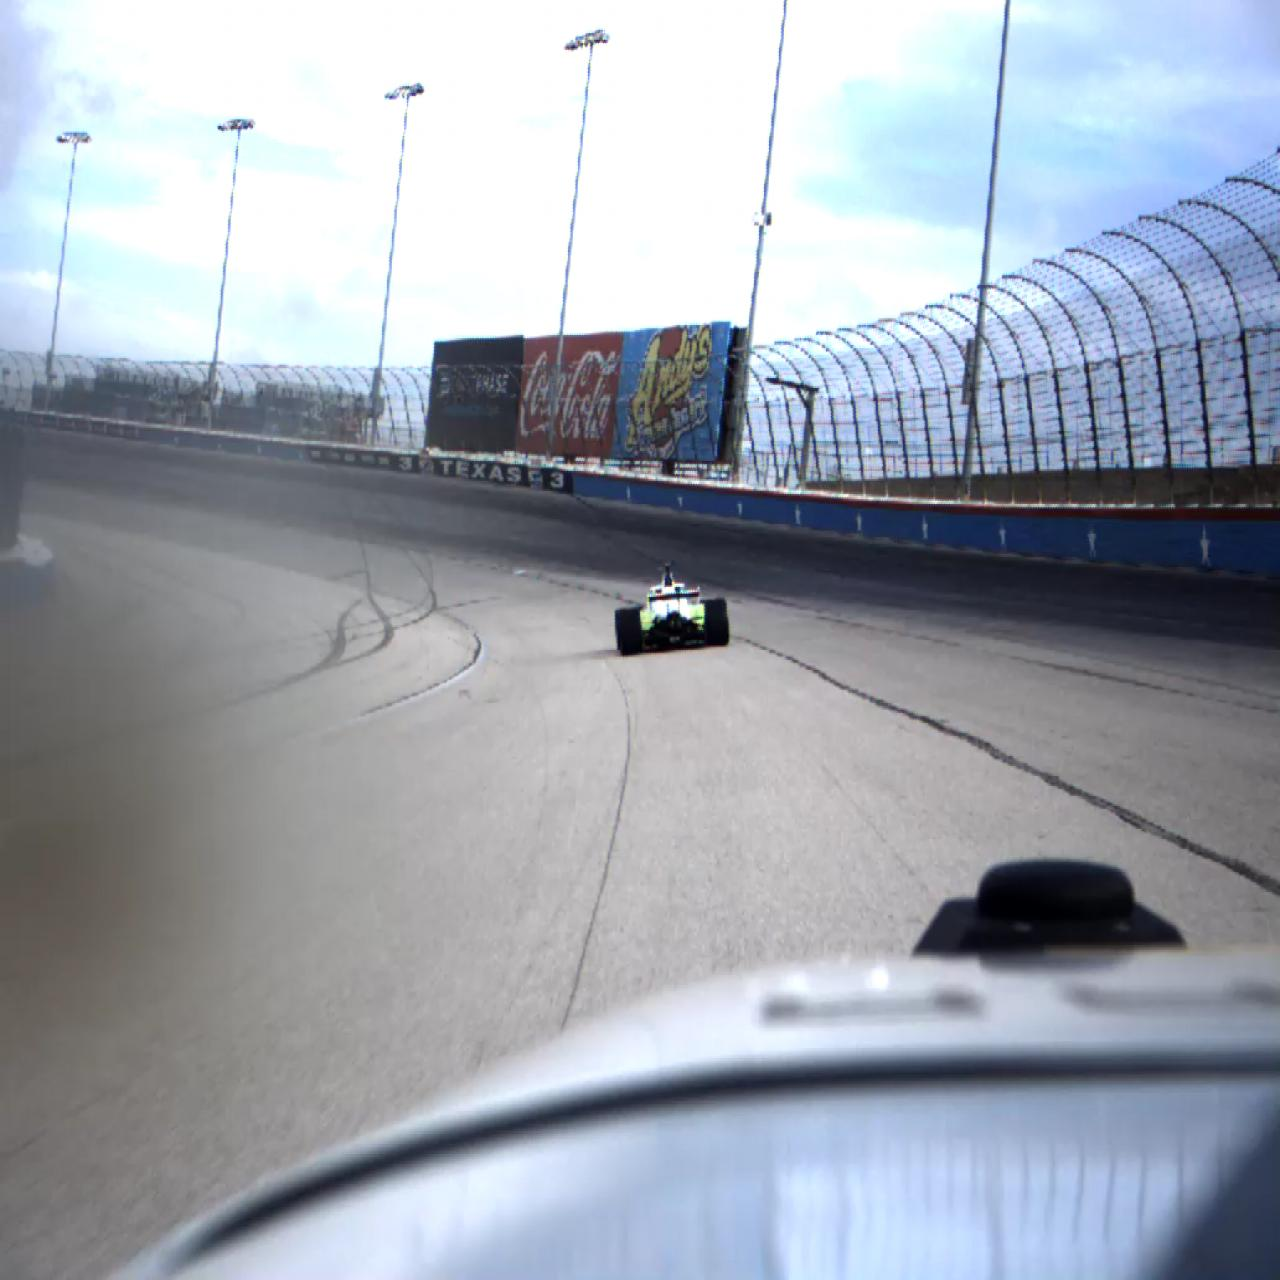AV: (616, 562, 728, 657)
Wheel: (616, 609, 642, 656), (704, 599, 729, 647)
